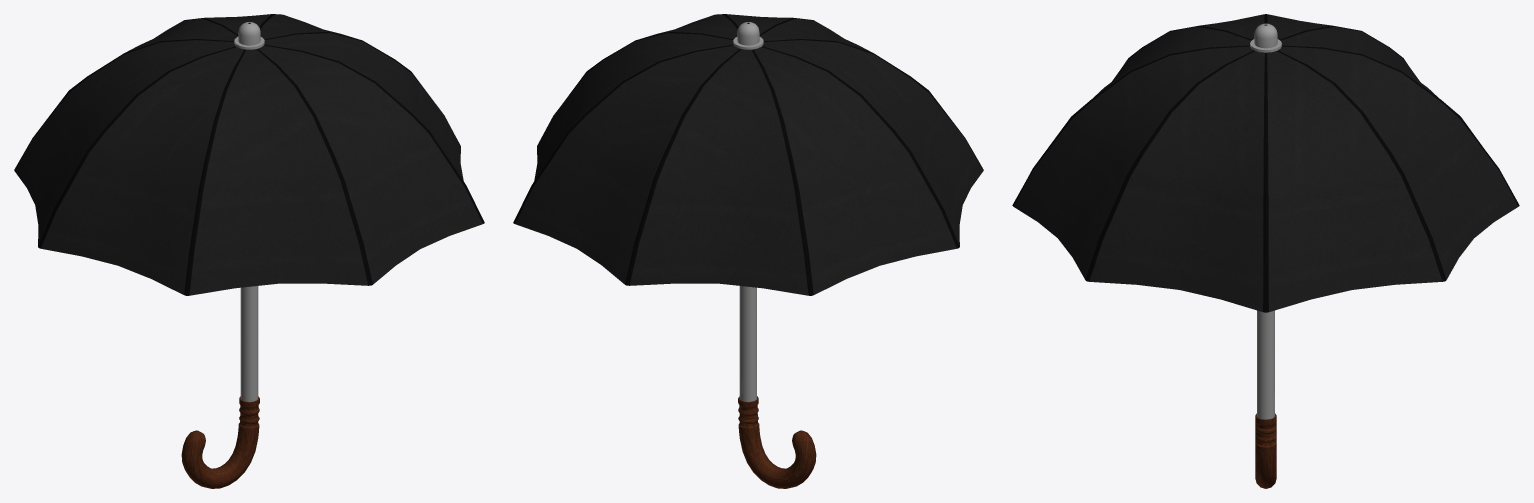
The model's file is umbrella.glb.
3 views of the same model, side by side, from view 1: azimuth 30°, elevation 25°; view 2: azimuth 150°, elevation 25°; view 3: azimuth 270°, elevation 25° (orthographic). The views are drawn at different scales.
Visible parts, largest first — view 1: Circle.001_Material_0; view 2: Circle.001_Material_0; view 3: Circle.001_Material_0.
Part boxes in pixels (x1,y1,x2,y2): Circle.001_Material_0: [14, 14, 484, 488]; Circle.001_Material_0: [513, 14, 983, 488]; Circle.001_Material_0: [1012, 14, 1519, 488].
Size of the model in its own units: 2.25 by 2.33 by 2.25.
1 material, 1 textured.
